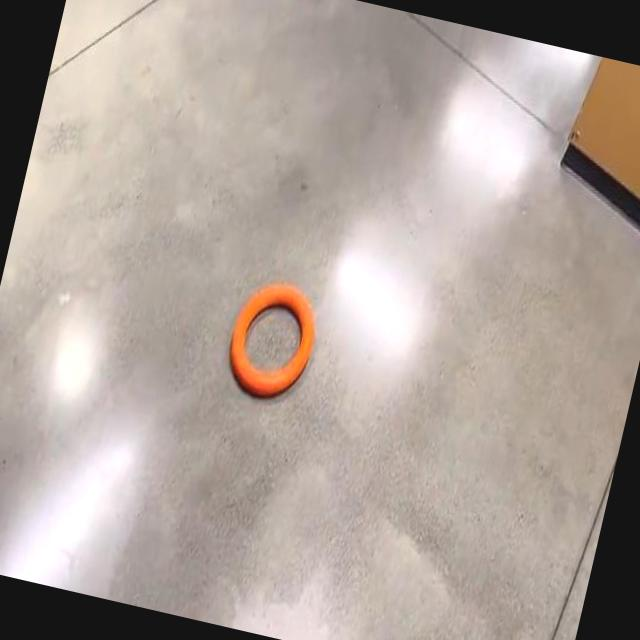note: (230, 285, 314, 395)
